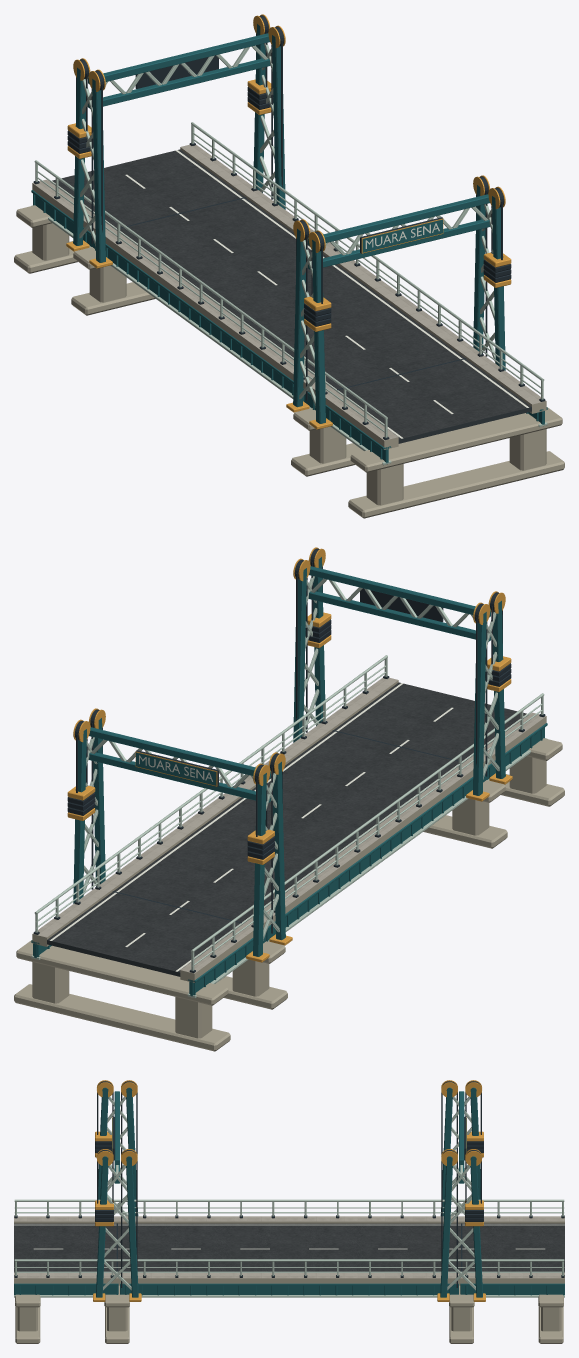
The picture shows the model from 3 angles, top to bottom: view 1: azimuth 30°, elevation 25°; view 2: azimuth 150°, elevation 25°; view 3: azimuth 270°, elevation 25°; orthographic projection. The views are drawn at different scales.
Visible parts, largest first — view 1: Carriageway, Service walks, Portal legs, Pier footings, Portal transoms, Pier shafts, Continuous handrails, Plate girders, Bearing cap, Tower lacing, Stacked ballast plates, Rail stanchions (+6 smaller); view 2: Carriageway, Service walks, Portal legs, Pier footings, Portal transoms, Pier shafts, Continuous handrails, Plate girders, Bearing cap, Tower lacing, Stacked ballast plates, Rail stanchions (+6 smaller); view 3: Carriageway, Service walks, Plate girders, Continuous handrails, Portal legs, Tower lacing, Pier shafts, Head sheaves, Pier footings, Hoist falls, Stacked ballast plates, Rail stanchions (+6 smaller).
Part boxes in pixels (bbox=[...]): Carriageway: bbox=[52, 149, 531, 443]; Service walks: bbox=[32, 144, 546, 449]; Portal legs: bbox=[73, 24, 505, 423]; Pier footings: bbox=[14, 241, 564, 518]; Portal transoms: bbox=[88, 33, 490, 269]; Pier shafts: bbox=[32, 223, 546, 505]; Continuous handrails: bbox=[34, 122, 544, 433]; Plate girders: bbox=[31, 190, 547, 465]; Bearing cap: bbox=[16, 205, 562, 472]; Tower lacing: bbox=[79, 43, 495, 407]; Stacked ballast plates: bbox=[67, 79, 511, 331]; Rail stanchions: bbox=[33, 125, 545, 439]; Carriageway: bbox=[47, 682, 526, 976]; Service walks: bbox=[32, 677, 546, 982]; Portal legs: bbox=[73, 557, 505, 956]; Pier footings: bbox=[14, 774, 564, 1051]; Portal transoms: bbox=[88, 566, 490, 802]; Pier shafts: bbox=[32, 756, 546, 1038]; Continuous handrails: bbox=[34, 655, 544, 966]; Plate girders: bbox=[31, 723, 547, 998]; Bearing cap: bbox=[16, 738, 562, 1005]; Tower lacing: bbox=[83, 576, 499, 940]; Stacked ballast plates: bbox=[67, 612, 511, 864]; Rail stanchions: bbox=[33, 658, 545, 972]; Carriageway: bbox=[14, 1223, 564, 1272]; Service walks: bbox=[14, 1216, 564, 1285]; Plate girders: bbox=[14, 1283, 564, 1297]; Continuous handrails: bbox=[14, 1199, 564, 1272]; Portal legs: bbox=[96, 1089, 482, 1297]; Tower lacing: bbox=[103, 1096, 475, 1290]; Pier shafts: bbox=[17, 1307, 561, 1331]; Head sheaves: bbox=[96, 1080, 482, 1165]; Pier footings: bbox=[15, 1306, 563, 1343]; Hoist falls: bbox=[97, 1092, 481, 1287]; Stacked ballast plates: bbox=[95, 1131, 483, 1226]; Rail stanchions: bbox=[14, 1202, 564, 1277].
Bounding box in the file's own units: 10.65 × 12.17 × 32.
Materials: 10 (2 with a texture image).
